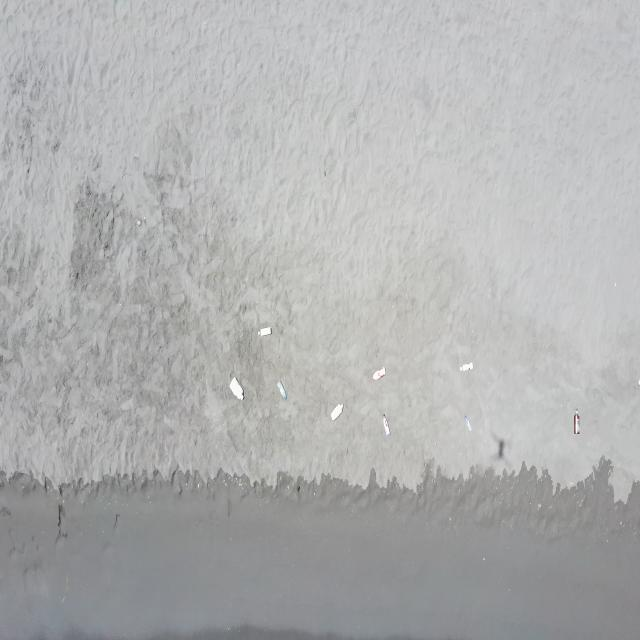Garbage: (228, 377, 243, 399), (492, 432, 504, 457), (329, 404, 343, 420), (572, 408, 580, 433), (276, 380, 286, 399), (372, 367, 384, 380), (459, 362, 472, 371), (464, 415, 470, 431), (259, 327, 271, 335), (384, 413, 387, 435), (136, 219, 139, 226), (637, 379, 639, 384)
